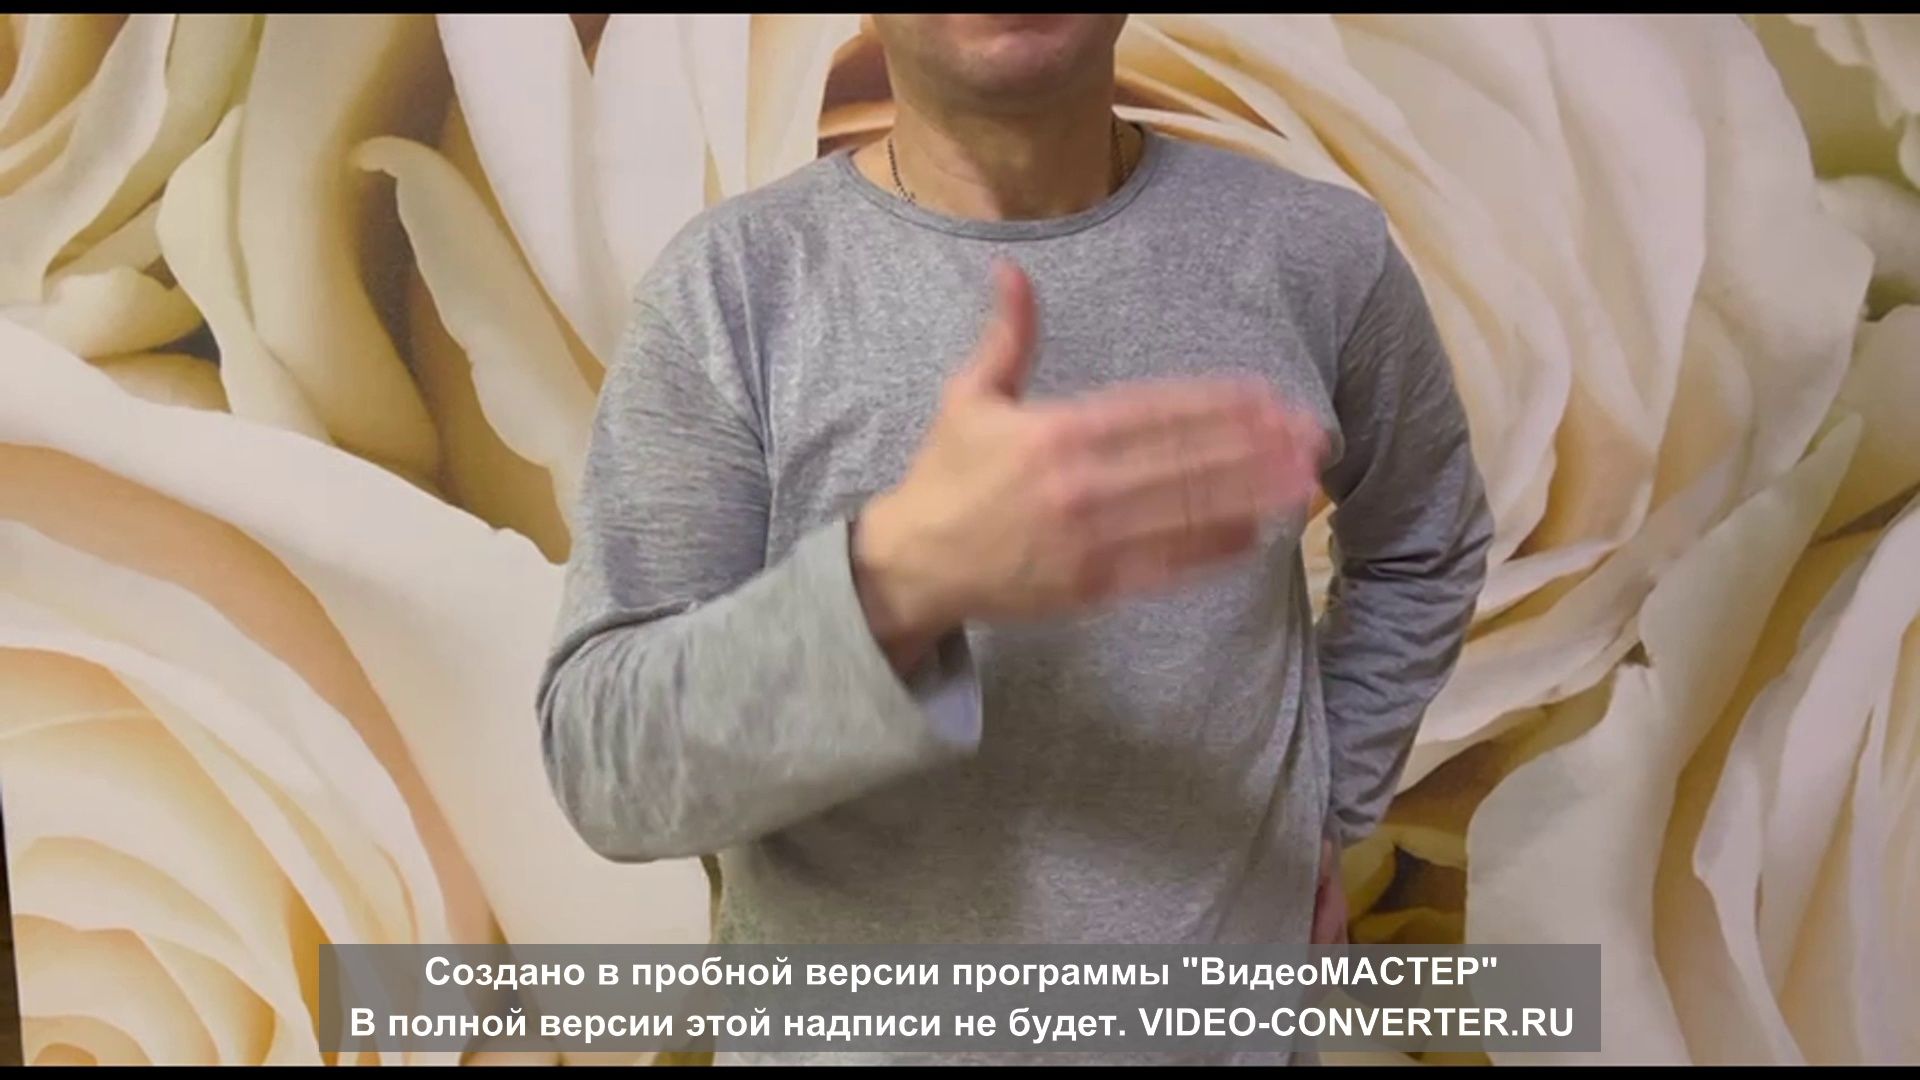Кисть: (910, 257, 1324, 620)
